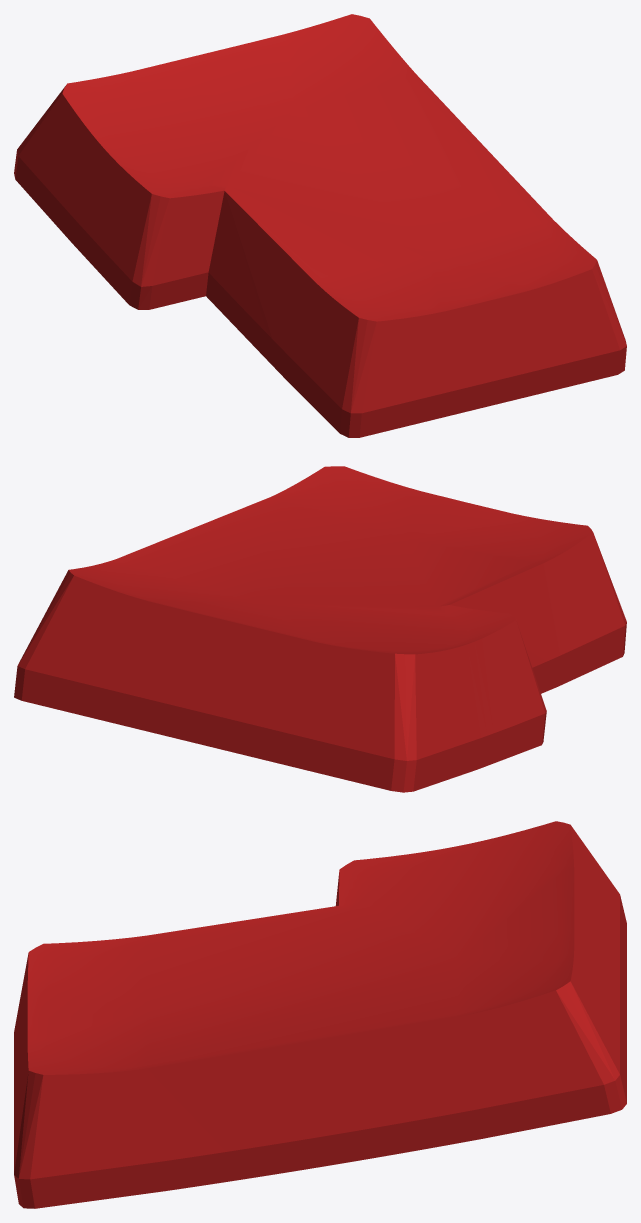
Rendered from original-87.obj.
3 views of the same model, one above another, from view 1: azimuth 30°, elevation 25°; view 2: azimuth 150°, elevation 25°; view 3: azimuth 270°, elevation 25° (orthographic). The views are drawn at different scales.
Parts seen in each view (by area): view 1: Group88/mesh256/mesh256-geometry#mesh256-geometry; view 2: Group88/mesh256/mesh256-geometry#mesh256-geometry; view 3: Group88/mesh256/mesh256-geometry#mesh256-geometry.
Part boxes in pixels (left/top/right/bottom): Group88/mesh256/mesh256-geometry#mesh256-geometry: left=14, top=14, right=626, bottom=437; Group88/mesh256/mesh256-geometry#mesh256-geometry: left=14, top=466, right=626, bottom=792; Group88/mesh256/mesh256-geometry#mesh256-geometry: left=14, top=821, right=626, bottom=1208.
Size of the model in its own units: 0.1234 by 0.0625 by 0.1646.
